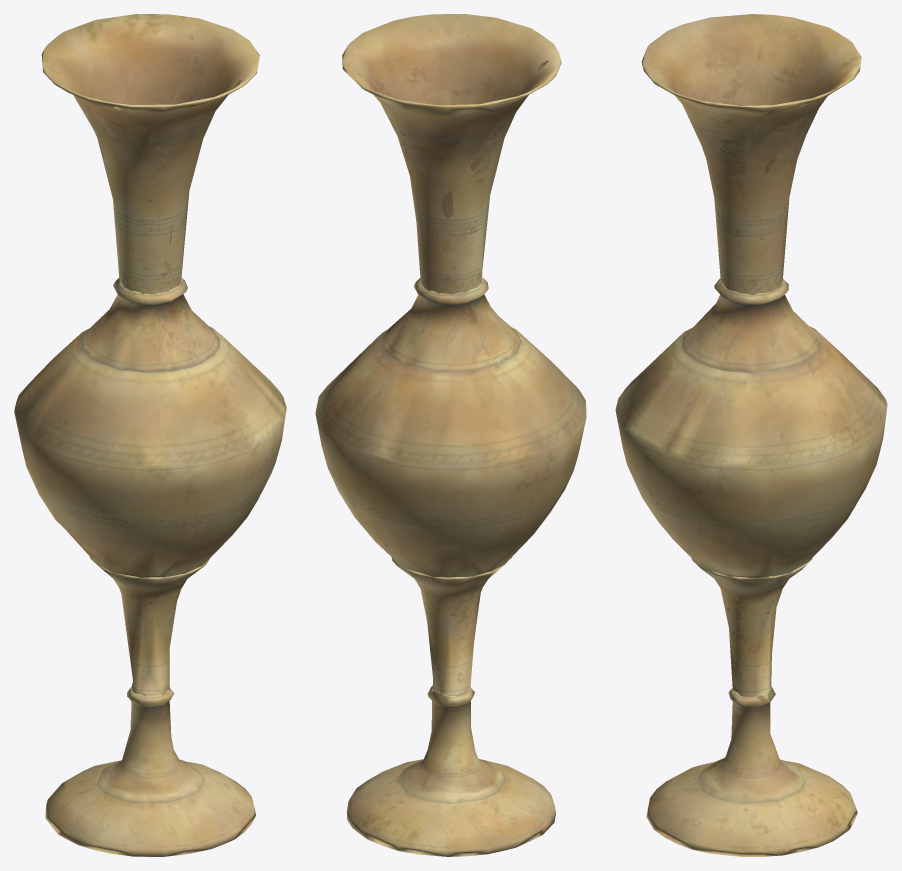
The model's file is vase-brass.glb.
3 renders of one model, left to right at view 1: azimuth 30°, elevation 25°; view 2: azimuth 150°, elevation 25°; view 3: azimuth 270°, elevation 25°, orthographic.
Visible parts, largest first — view 1: brass_vase_01; view 2: brass_vase_01; view 3: brass_vase_01.
Part boxes in pixels (left/top/right/bottom): brass_vase_01: left=14, top=14, right=286, bottom=856; brass_vase_01: left=315, top=14, right=586, bottom=856; brass_vase_01: left=615, top=14, right=887, bottom=856.
Bounding box in the file's own units: 0.2267 × 0.6925 × 0.2267.
1 material, 1 textured.
